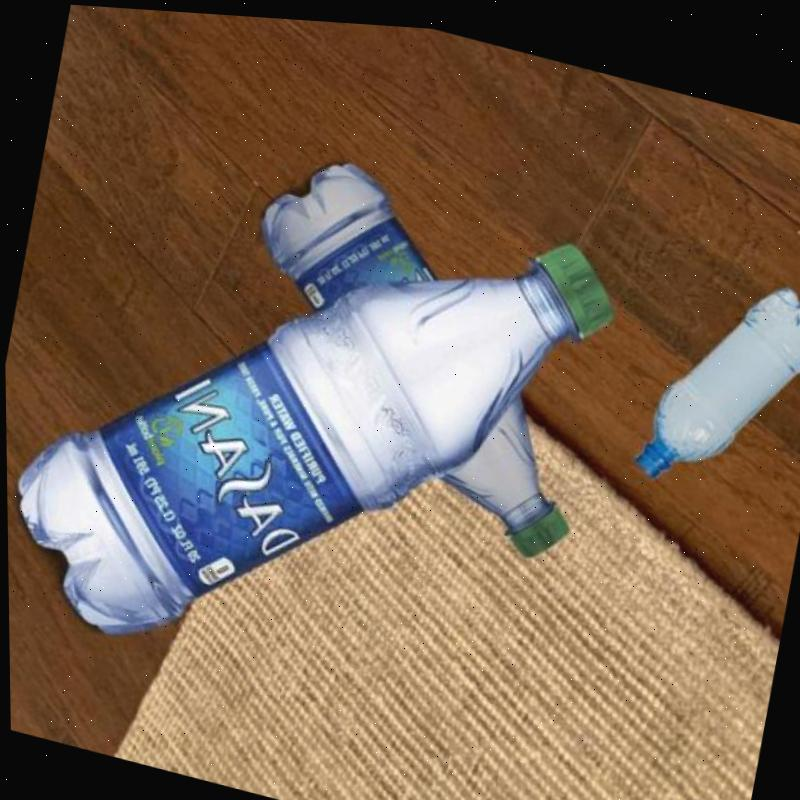botella: (1, 111, 624, 739), (208, 132, 628, 564), (630, 247, 800, 503)
